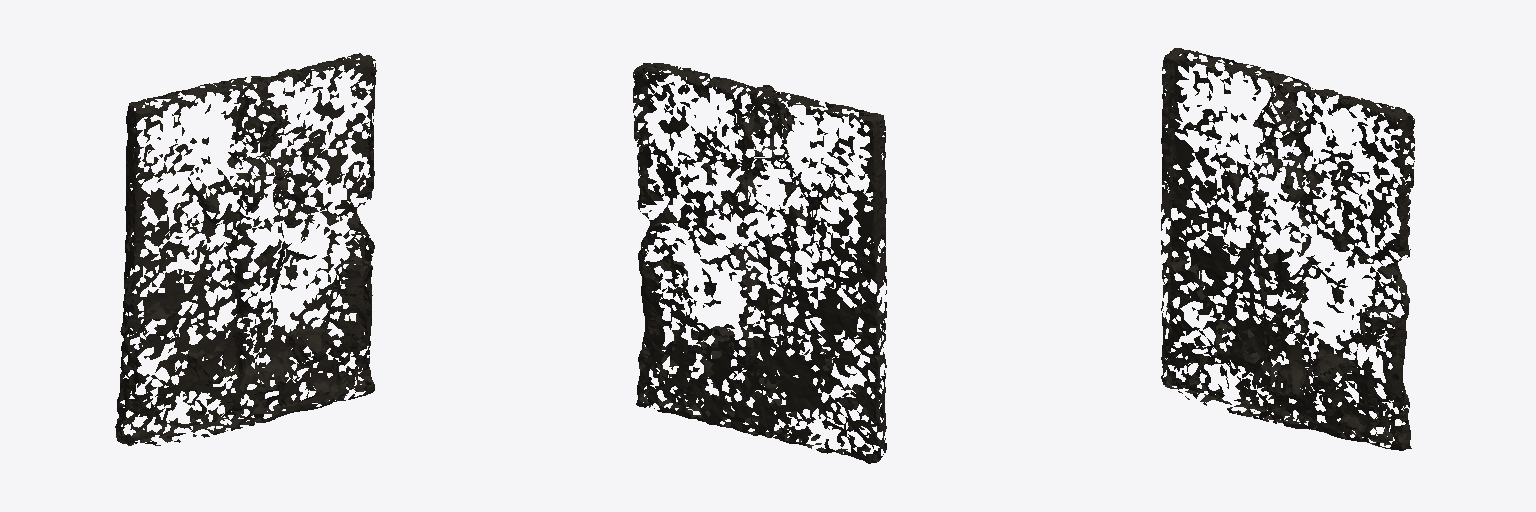
3 renders of one model, left to right at view 1: azimuth 30°, elevation 25°; view 2: azimuth 150°, elevation 25°; view 3: azimuth 330°, elevation 25°, orthographic.
Size of the model in its own units: 6.07 by 7.9 by 1.19.
Materials: 1 (1 with a texture image).